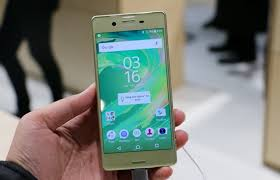sony: (84, 11, 179, 172)
